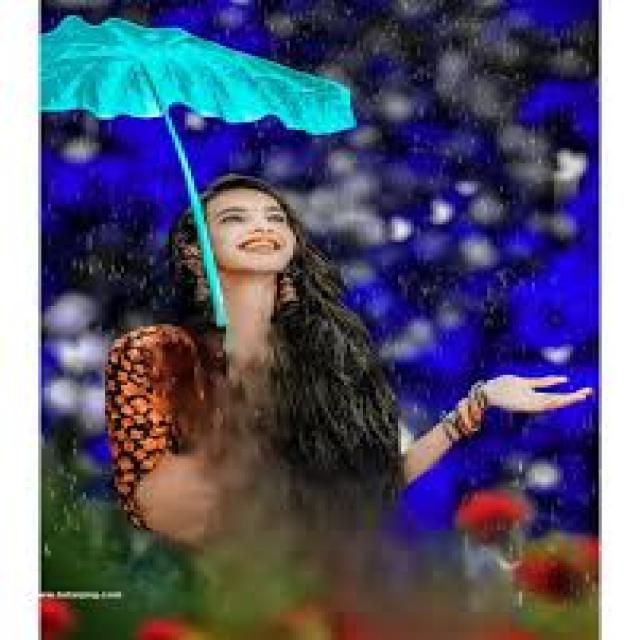Edited images: (103, 162, 612, 631)
